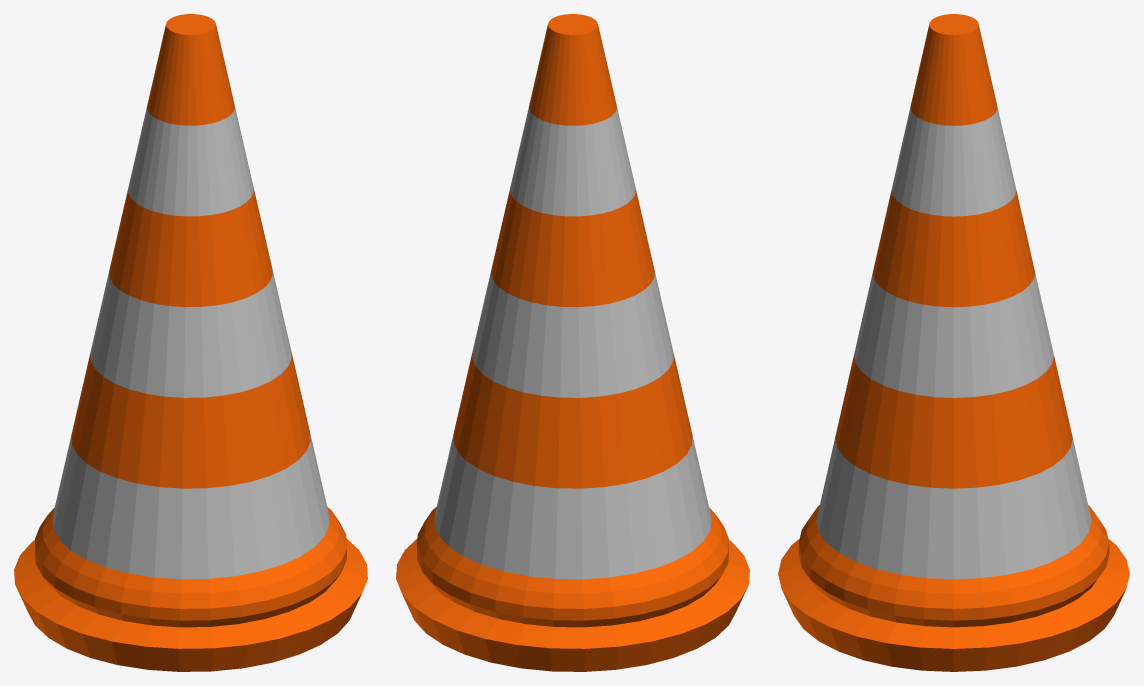
Rendered from TRAFFIC CONE.001_Material.036.glb.
3 views of the same model, side by side, from view 1: azimuth 30°, elevation 25°; view 2: azimuth 150°, elevation 25°; view 3: azimuth 270°, elevation 25° (orthographic).
Visible parts, largest first — view 1: TRAFFIC CONE.001_Material.036_0; view 2: TRAFFIC CONE.001_Material.036_0; view 3: TRAFFIC CONE.001_Material.036_0.
Part boxes in pixels (x1,y1,x2,y2): TRAFFIC CONE.001_Material.036_0: (14,14,367,671); TRAFFIC CONE.001_Material.036_0: (396,14,749,671); TRAFFIC CONE.001_Material.036_0: (778,14,1129,671).
Size of the model in its own units: 0.1216 by 0.2182 by 0.1204.
Materials: 1 (1 with a texture image).
